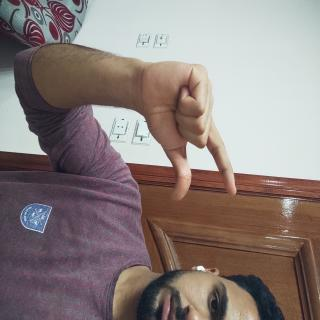DELL: (40, 106, 155, 253)
